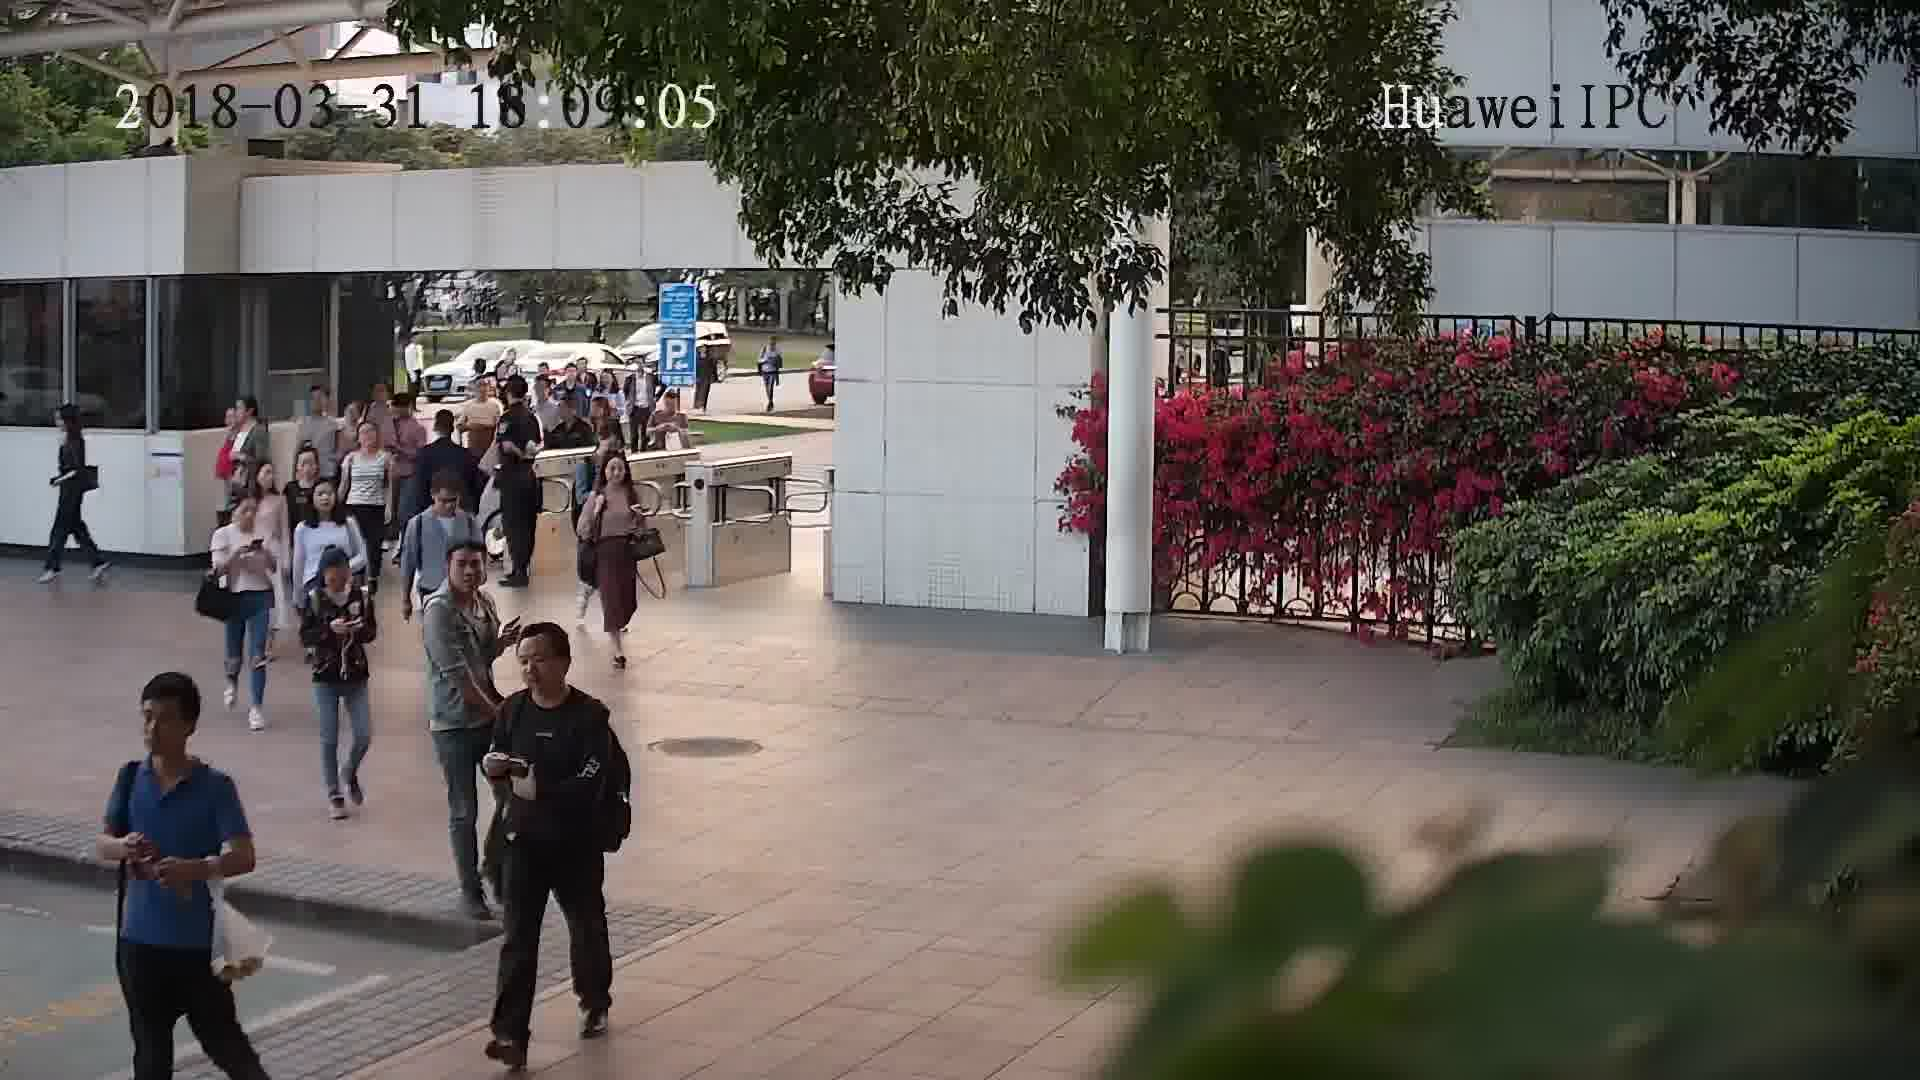face: (133, 691, 195, 753), (511, 637, 565, 691), (445, 547, 490, 592)
person: (110, 670, 239, 806), (493, 622, 615, 735), (420, 537, 505, 634), (404, 471, 485, 539), (302, 540, 374, 612), (298, 476, 361, 539), (212, 491, 274, 552), (587, 449, 641, 512), (418, 401, 471, 461), (238, 452, 289, 509), (342, 418, 395, 468), (279, 443, 327, 497), (296, 379, 341, 434), (221, 390, 265, 448), (544, 393, 597, 440), (386, 384, 431, 436), (54, 398, 94, 456), (497, 377, 541, 429), (325, 397, 372, 441), (547, 360, 592, 401), (646, 390, 692, 427), (461, 377, 507, 414), (528, 371, 560, 418), (593, 367, 630, 401)
